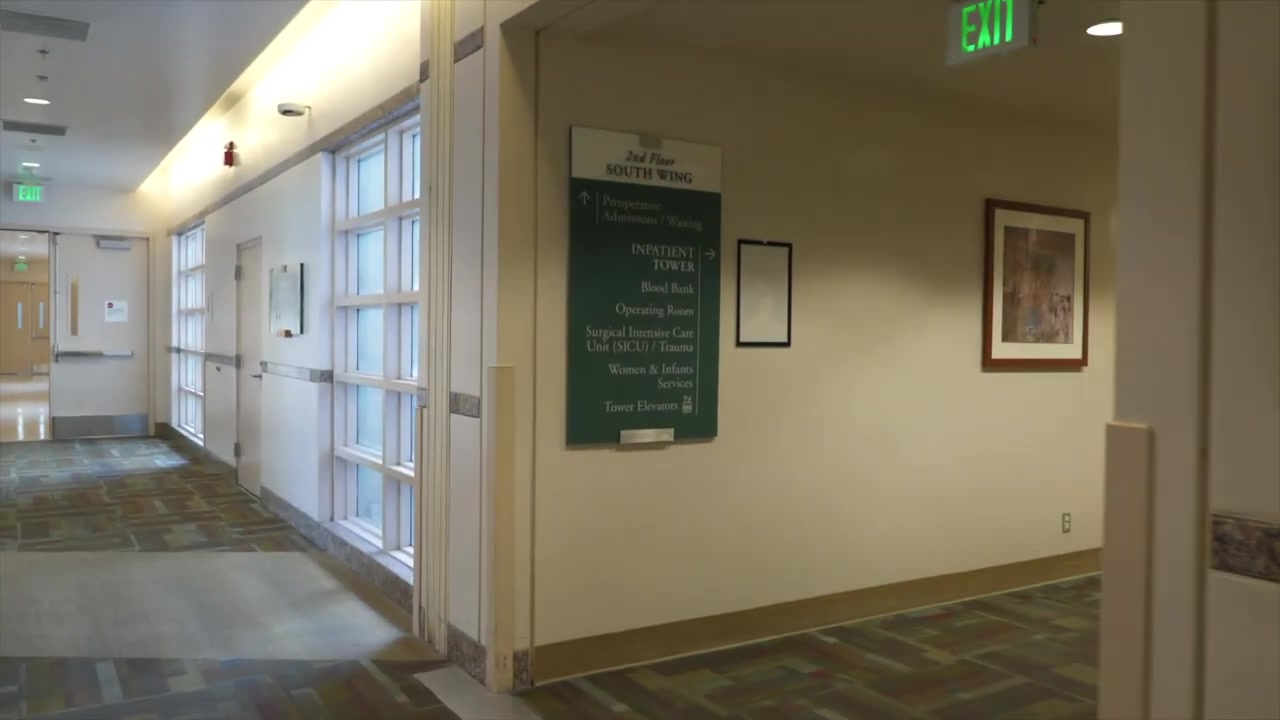door_handle: (249, 370, 261, 381)
push_latch: (55, 351, 133, 363), (32, 336, 48, 341)
